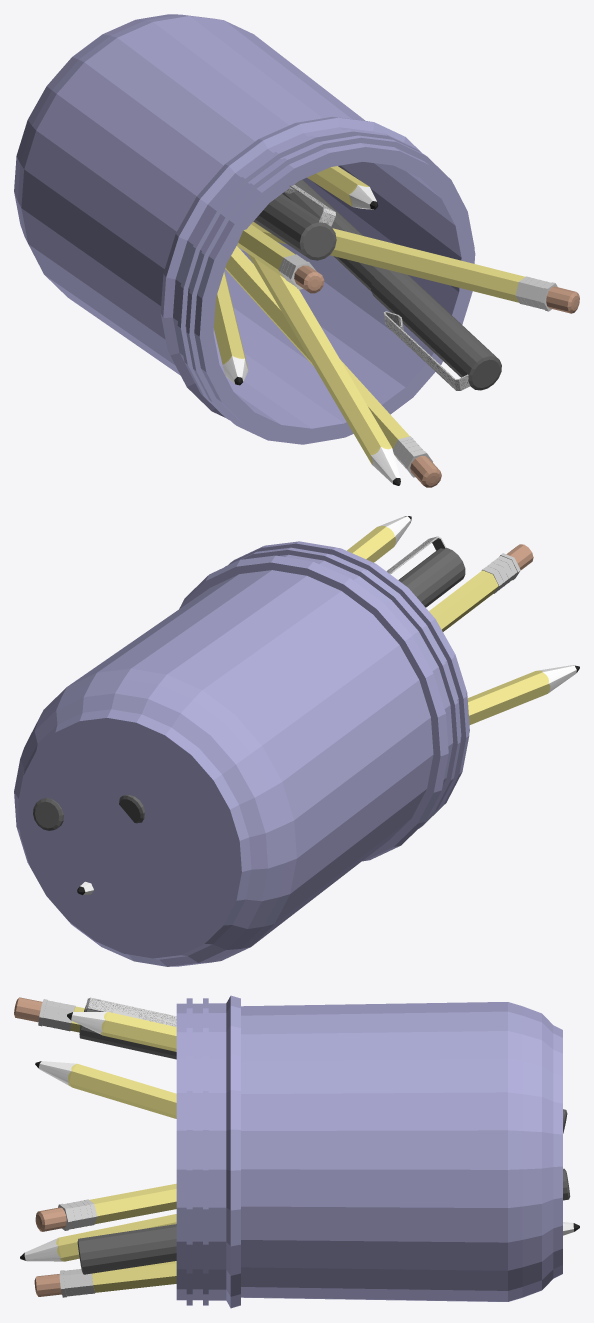
3 views of the same model, one above another, from view 1: azimuth 30°, elevation 25°; view 2: azimuth 150°, elevation 25°; view 3: azimuth 270°, elevation 25° (orthographic). The views are drawn at different scales.
Visible parts, largest first — view 1: jar of pencils; view 2: jar of pencils; view 3: jar of pencils.
Boxes of the visible parts, x1,y1,x2,y2 form: jar of pencils: (14,14,579,487); jar of pencils: (14,516,579,966); jar of pencils: (14,995,579,1308).
Bounding box in the file's own units: 4.79 × 4.01 × 7.22.
